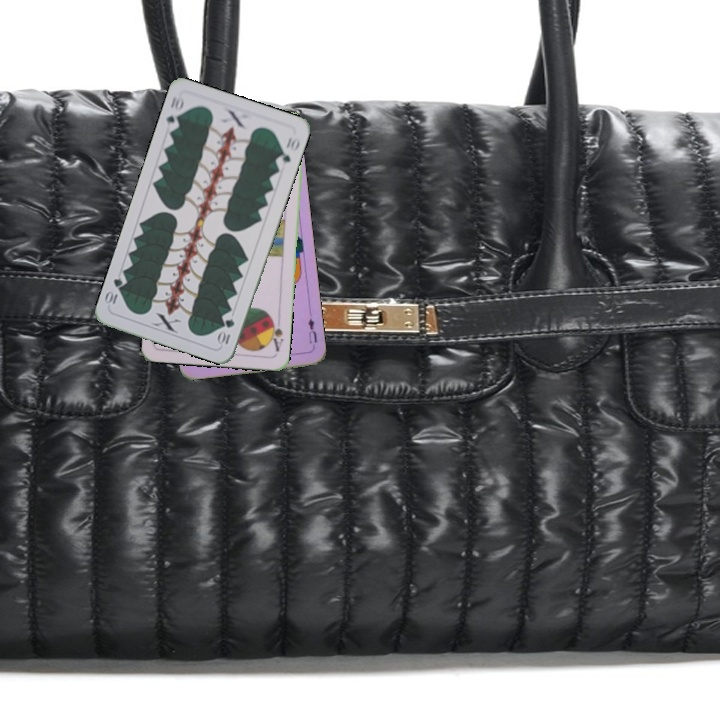EU: (304, 309, 320, 346)
G10: (162, 92, 187, 133), (214, 315, 237, 347)
SA: (266, 314, 286, 354)
